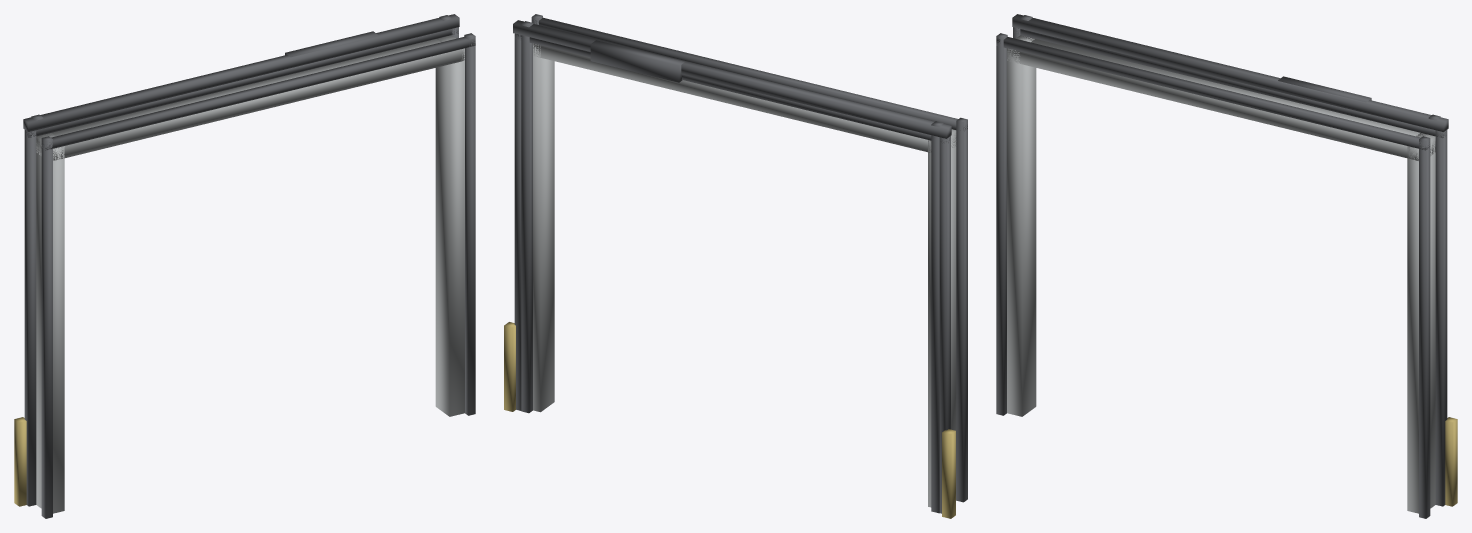
File: bay_opening_service_bay_w480_h420_d30.glb
3 views of the same model, side by side, from view 1: azimuth 30°, elevation 25°; view 2: azimuth 150°, elevation 25°; view 3: azimuth 330°, elevation 25° (orthographic).
Parts seen in each view (by area): view 1: world; view 2: world; view 3: world.
Part boxes in pixels (x1,y1,x2,y2): world: (14, 14, 475, 518); world: (504, 14, 967, 518); world: (996, 14, 1457, 518).
Bounding box in the file's own units: 5.54 × 4.59 × 0.522.
